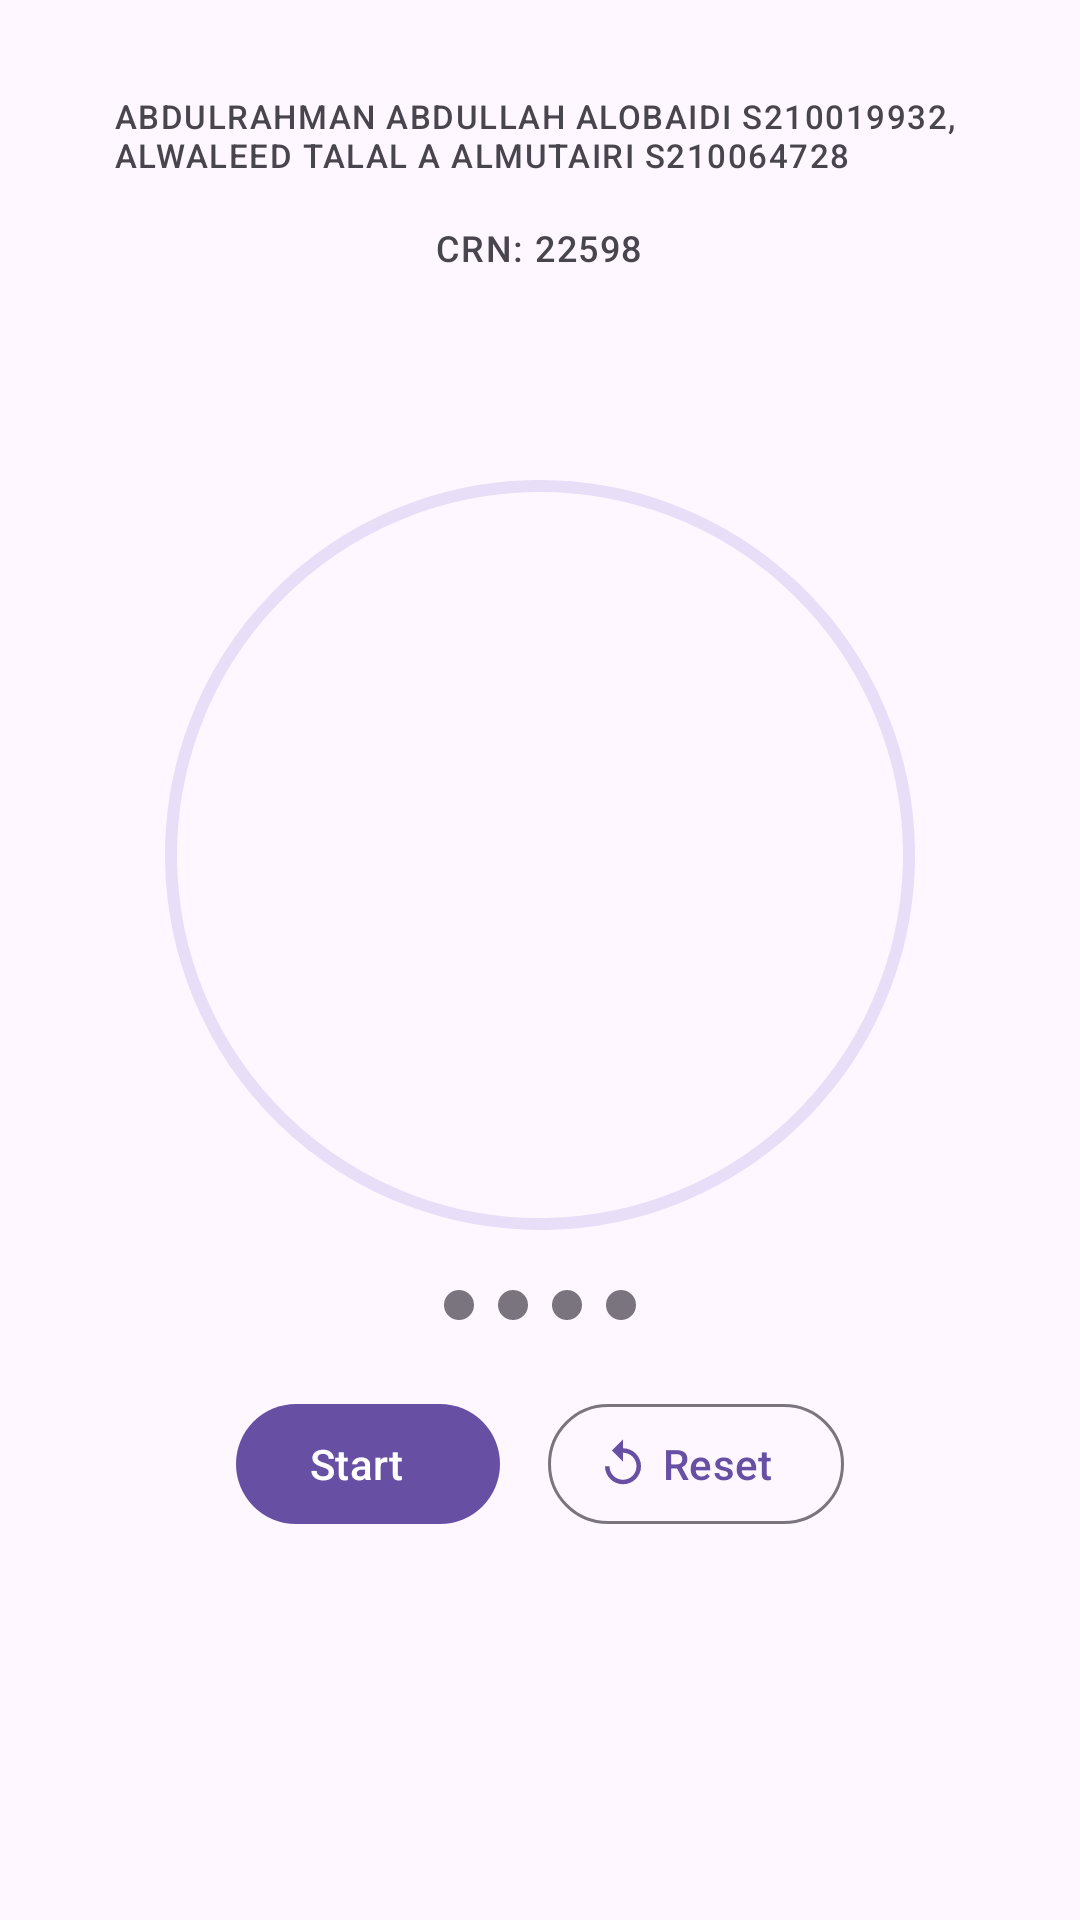

Point at icon controls on the screen. Image size 1080 × 1920, points as point (x, y).
dot indicator: point (459, 1305), point (513, 1305), point (567, 1305), point (621, 1305)
